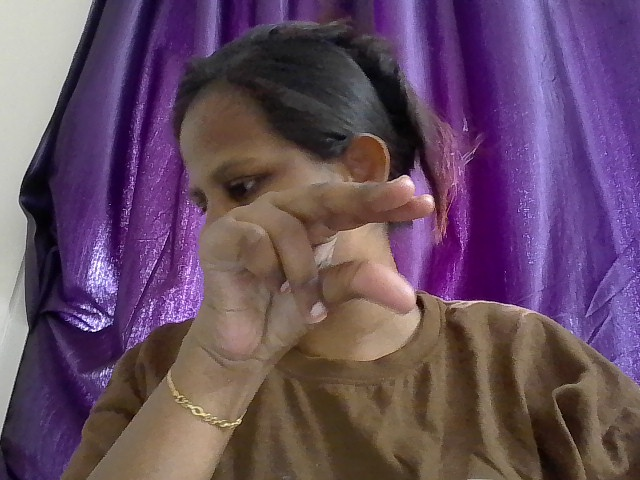NO: (135, 152, 495, 420)
